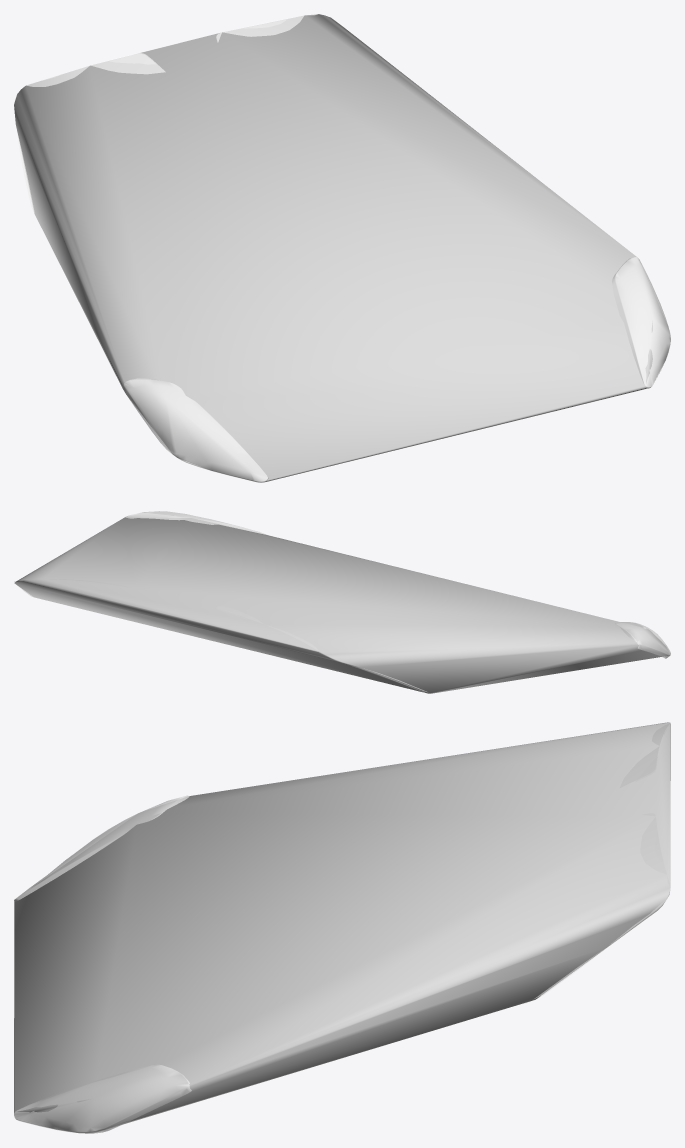
3 views of the same model, one above another, from view 1: azimuth 30°, elevation 25°; view 2: azimuth 150°, elevation 25°; view 3: azimuth 270°, elevation 25° (orthographic). The views are drawn at different scales.
Visible parts, largest first — view 1: glass_eclipse_windscreen_01_col, glass_eclipse_windscreen_01; view 2: glass_eclipse_windscreen_01_col, glass_eclipse_windscreen_01; view 3: glass_eclipse_windscreen_01_col, glass_eclipse_windscreen_01.
Part boxes in pixels (x1=…): glass_eclipse_windscreen_01_col: x1=14, y1=14, x2=670, y2=482; glass_eclipse_windscreen_01: x1=14, y1=14, x2=670, y2=482; glass_eclipse_windscreen_01_col: x1=14, y1=517, x2=670, y2=693; glass_eclipse_windscreen_01: x1=14, y1=511, x2=670, y2=691; glass_eclipse_windscreen_01_col: x1=14, y1=722, x2=670, y2=1133; glass_eclipse_windscreen_01: x1=14, y1=723, x2=670, y2=1133.
Bounding box in the file's own units: 1.77 × 0.6263 × 1.7.
2 materials, 2 textured.
